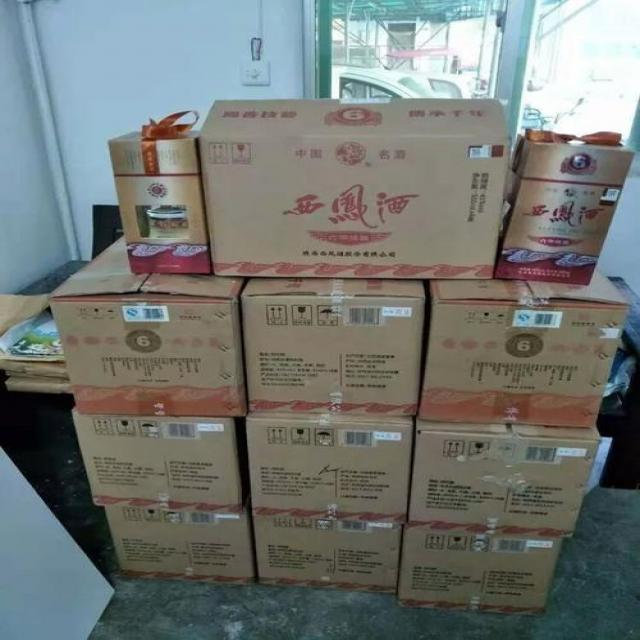box: (200, 96, 504, 276), (46, 230, 246, 418), (426, 275, 631, 429), (242, 266, 412, 420), (404, 417, 600, 539), (238, 407, 414, 521), (396, 512, 567, 617), (68, 404, 239, 508), (101, 497, 260, 588), (252, 510, 408, 590)
